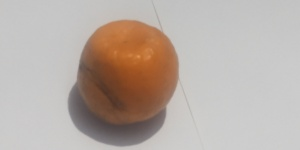BAD: (73, 19, 181, 124)
